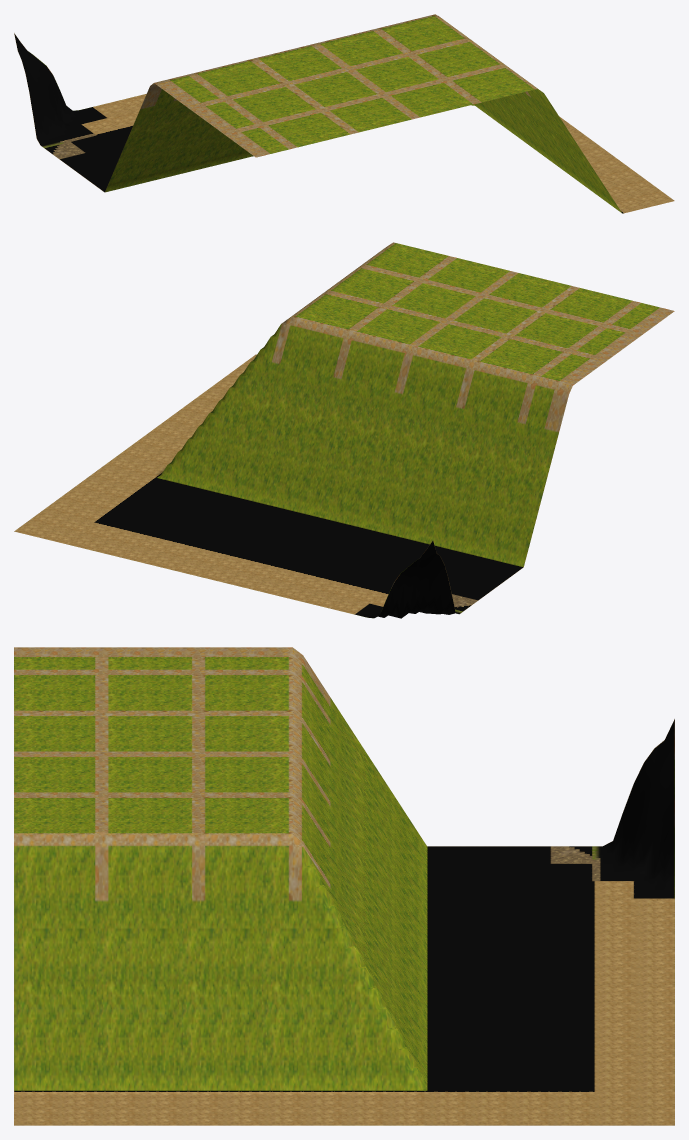
The model's file is terrain.glb.
3 renders of one model, top to bottom at view 1: azimuth 30°, elevation 25°; view 2: azimuth 150°, elevation 25°; view 3: azimuth 270°, elevation 25°, orthographic. The views are drawn at different scales.
Visible parts, largest first — view 1: terrain_1_5; view 2: terrain_1_5; view 3: terrain_1_5.
Boxes of the visible parts, left/top/right/bottom form: terrain_1_5: left=14, top=14, right=674, bottom=213; terrain_1_5: left=14, top=242, right=674, bottom=618; terrain_1_5: left=14, top=647, right=674, bottom=1125.
Bounding box in the file's own units: 512 × 170 × 512.
1 material, 1 textured.
